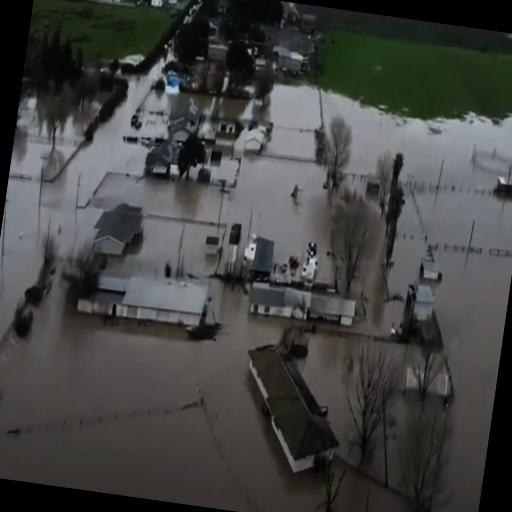flood: (0, 62, 325, 512), (324, 93, 512, 512), (223, 157, 334, 276), (126, 83, 321, 138), (337, 388, 420, 512), (344, 177, 405, 336), (301, 325, 363, 467), (388, 194, 427, 303), (55, 97, 100, 157), (178, 224, 218, 277), (17, 92, 52, 144), (266, 130, 316, 158), (391, 343, 414, 386), (426, 398, 446, 422), (337, 261, 347, 293)
house: (233, 337, 351, 477), (88, 248, 218, 336), (246, 279, 311, 329), (90, 202, 146, 258), (306, 288, 360, 330), (246, 232, 277, 282), (142, 138, 176, 180), (172, 100, 200, 146), (243, 126, 267, 154), (216, 115, 238, 137), (150, 0, 168, 12)
